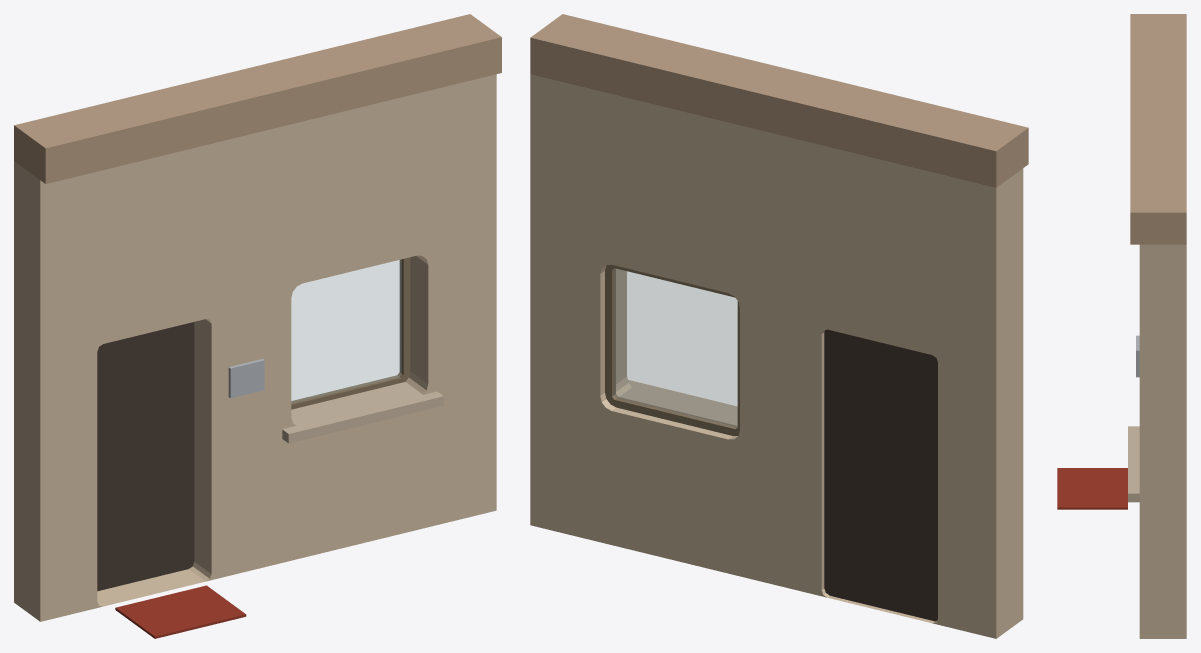
File: city_res_door.glb
3 renders of one model, left to right at view 1: azimuth 30°, elevation 25°; view 2: azimuth 150°, elevation 25°; view 3: azimuth 270°, elevation 25°, orthographic. The views are drawn at different scales.
Visible parts, largest first — view 1: CityResDoor_Wall, CityResDoor_Band, CityResDoor_DoorFrame, CityResDoor_KitchenGlass, CityResDoor_KitchenSill, CityResDoor_Mat, CityResDoor_KitchenFrame, CityResDoor_Plaque; view 2: CityResDoor_Wall, CityResDoor_Band, CityResDoor_DoorFrame, CityResDoor_KitchenGlass, CityResDoor_KitchenFrame, CityResDoor_KitchenSill; view 3: CityResDoor_Wall, CityResDoor_Band, CityResDoor_Mat, CityResDoor_KitchenSill.
Boxes of the visible parts, x1,y1,x2,y2 form: CityResDoor_Wall: [14, 74, 496, 621]; CityResDoor_Band: [14, 14, 501, 183]; CityResDoor_DoorFrame: [97, 322, 194, 591]; CityResDoor_KitchenGlass: [291, 259, 401, 402]; CityResDoor_KitchenSill: [282, 382, 443, 443]; CityResDoor_Mat: [115, 585, 246, 638]; CityResDoor_KitchenFrame: [291, 257, 410, 409]; CityResDoor_Plaque: [228, 359, 264, 398]; CityResDoor_Wall: [530, 74, 1023, 638]; CityResDoor_Band: [530, 14, 1028, 187]; CityResDoor_DoorFrame: [824, 329, 937, 621]; CityResDoor_KitchenGlass: [614, 268, 737, 427]; CityResDoor_KitchenFrame: [605, 264, 739, 435]; CityResDoor_KitchenSill: [619, 380, 737, 425]; CityResDoor_Wall: [1139, 244, 1186, 638]; CityResDoor_Band: [1130, 14, 1186, 244]; CityResDoor_Mat: [1057, 468, 1127, 509]; CityResDoor_KitchenSill: [1128, 426, 1139, 502].
Size of the model in its own units: 4 by 4 by 1.1.
